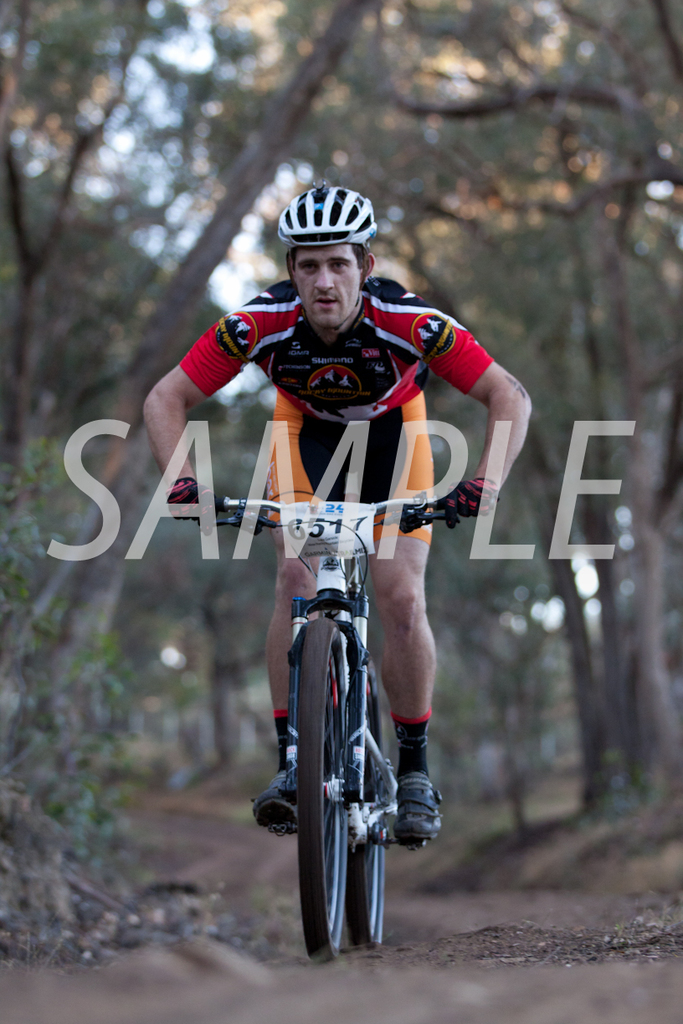Bike: (171, 469, 547, 978)
